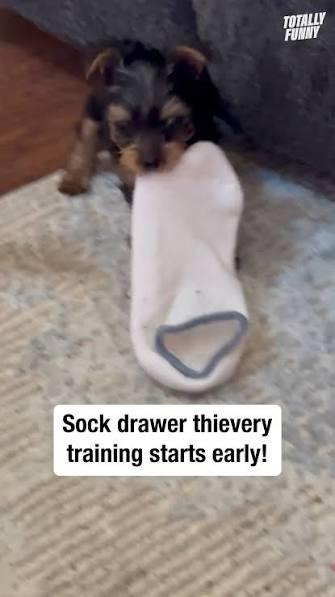puppy-dog: (58, 37, 227, 198)
